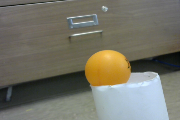PingPongBall: (84, 50, 131, 89)
